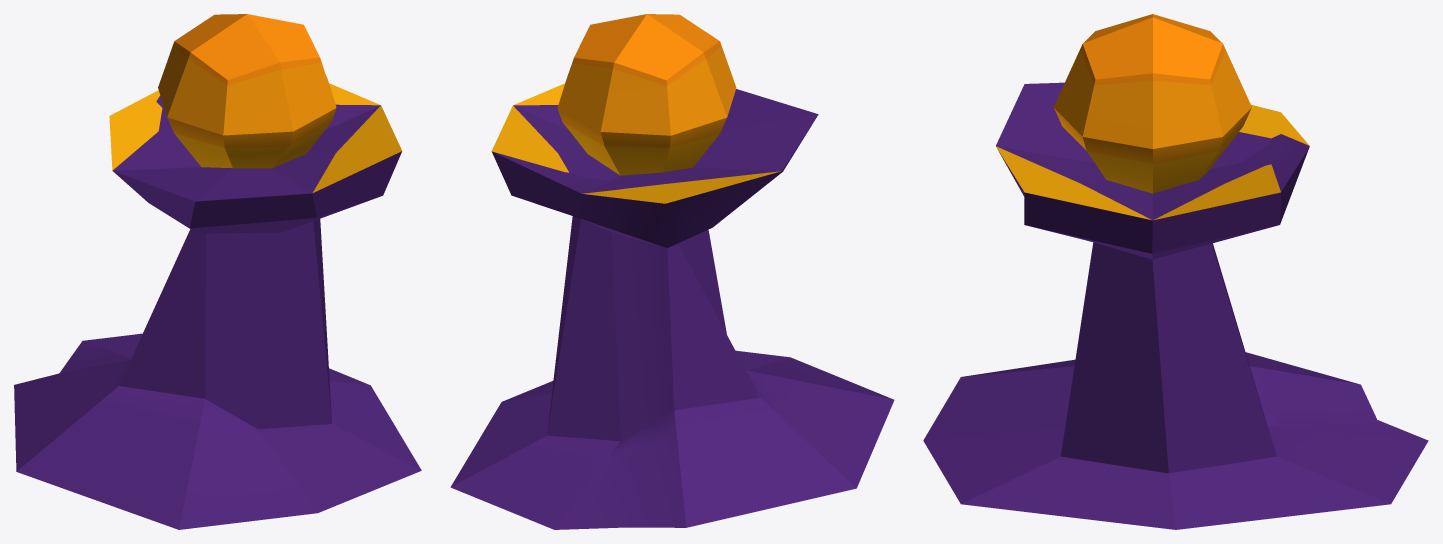
The model's file is plante_2_etape_1.fbx.
3 views of the same model, side by side, from view 1: azimuth 30°, elevation 25°; view 2: azimuth 150°, elevation 25°; view 3: azimuth 270°, elevation 25° (orthographic). The views are drawn at different scales.
Visible parts, largest first — view 1: stage_1; view 2: stage_1; view 3: stage_1.
Part boxes in pixels (x1,y1,x2,y2): stage_1: (14, 14, 421, 529); stage_1: (450, 14, 894, 529); stage_1: (923, 14, 1428, 529).
Size of the model in its own units: 0.6738 by 0.7551 by 0.7754.
